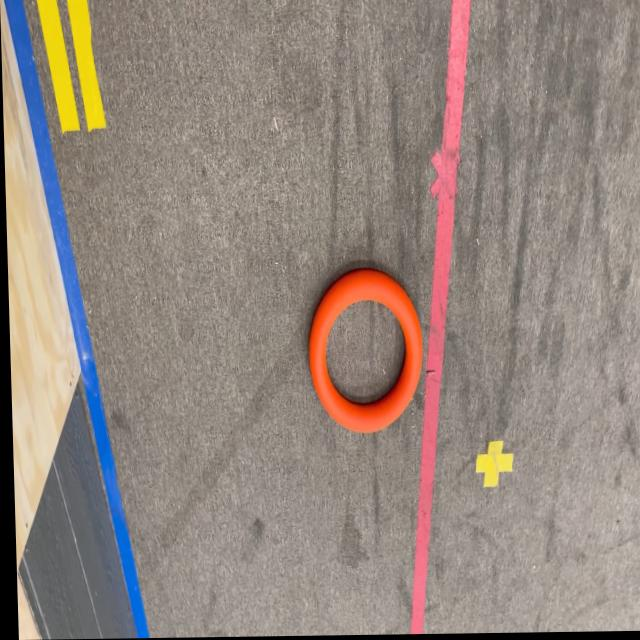note: (302, 273, 420, 437)
